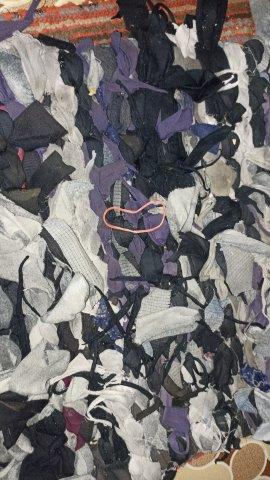karet: (103, 201, 166, 234)
